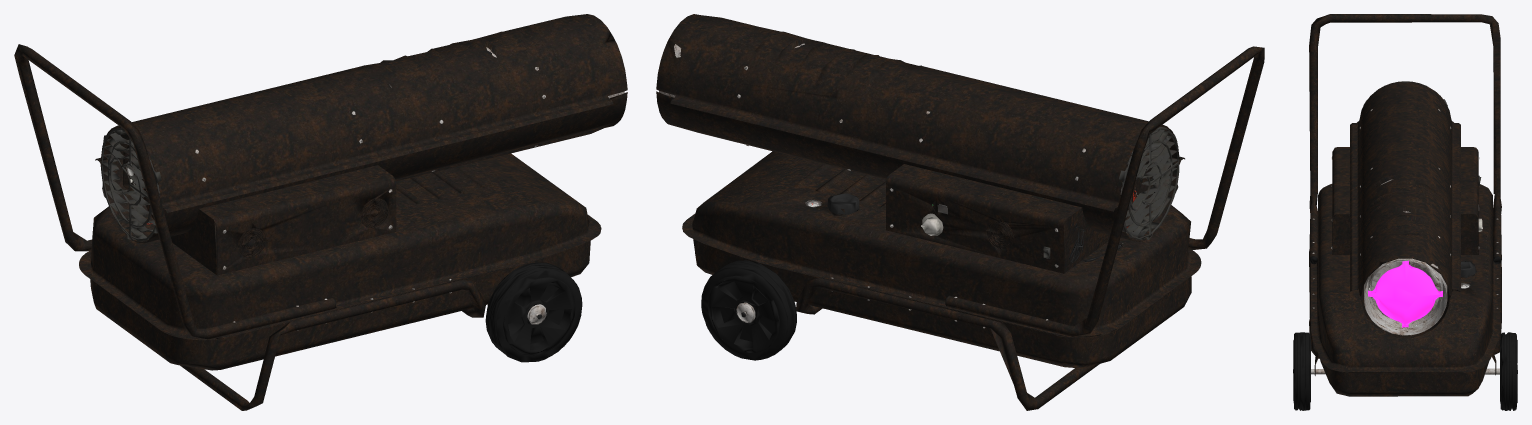
File: craft_r19_salamander_lung.glb
The picture shows the model from 3 angles, left to right: view 1: azimuth 30°, elevation 25°; view 2: azimuth 150°, elevation 25°; view 3: azimuth 270°, elevation 25°; orthographic projection. The views are drawn at different scales.
Visible parts, largest first — view 1: craft_r19_salamander_lung; view 2: craft_r19_salamander_lung; view 3: craft_r19_salamander_lung.
Part boxes in pixels (<box>): craft_r19_salamander_lung: <box>14,14,627,410</box>; craft_r19_salamander_lung: <box>656,14,1264,410</box>; craft_r19_salamander_lung: <box>1293,14,1517,410</box>.
Bounding box in the file's own units: 1.03 × 0.5978 × 0.493.
11 materials, 9 textured.
